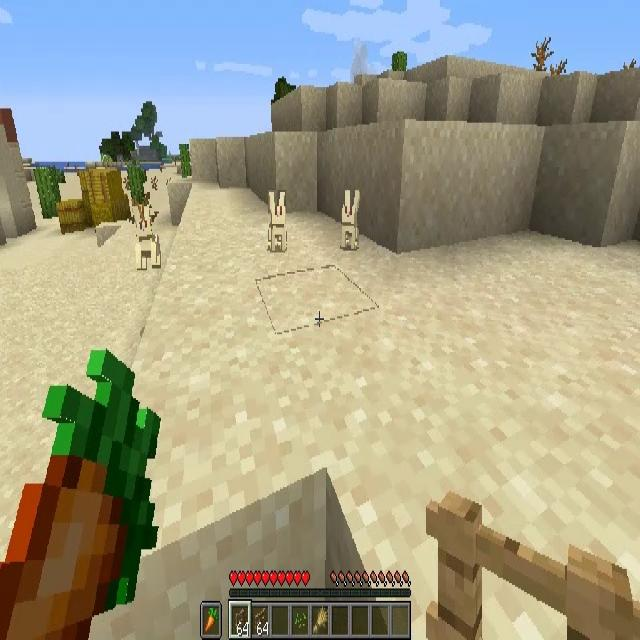rabbit: (133, 204, 160, 268), (340, 192, 360, 252), (268, 190, 286, 254)
